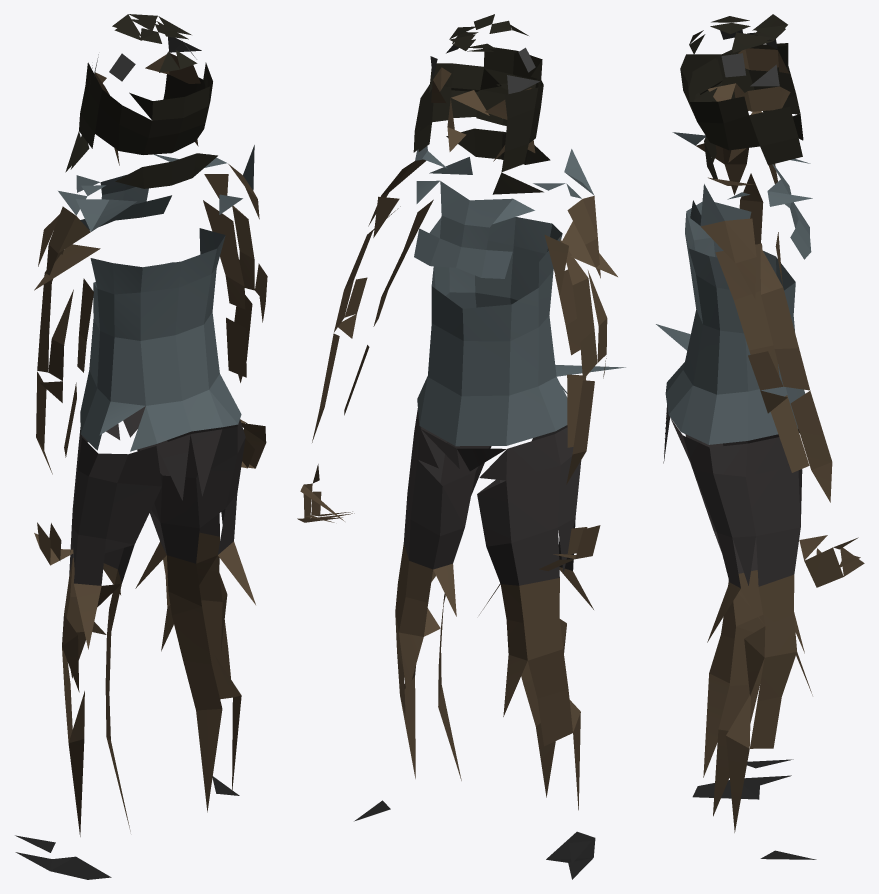
Rendered from personfar_5_idle.fbx.
3 renders of one model, left to right at view 1: azimuth 30°, elevation 25°; view 2: azimuth 150°, elevation 25°; view 3: azimuth 270°, elevation 25°, orthographic.
Visible parts, largest first — view 1: BaseHuman.000; view 2: BaseHuman.000; view 3: BaseHuman.000.
Part boxes in pixels (<box>): BaseHuman.000: <box>15,14,267,879</box>; BaseHuman.000: <box>297,14,625,879</box>; BaseHuman.000: <box>656,14,864,859</box>.
Bounding box in the file's own units: 0.3341 × 0.9639 × 0.2261.
